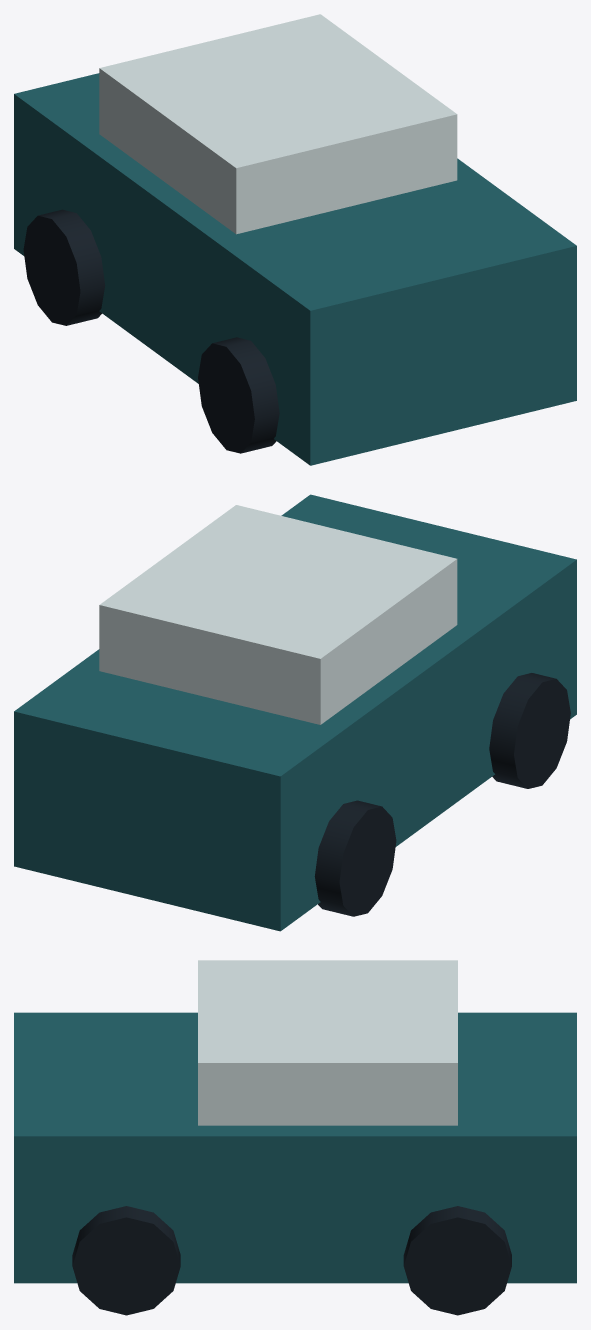
The model's file is car.glb.
3 views of the same model, one above another, from view 1: azimuth 30°, elevation 25°; view 2: azimuth 150°, elevation 25°; view 3: azimuth 270°, elevation 25° (orthographic). The views are drawn at different scales.
Size of the model in its own units: 1.6 by 1.17 by 2.6.
